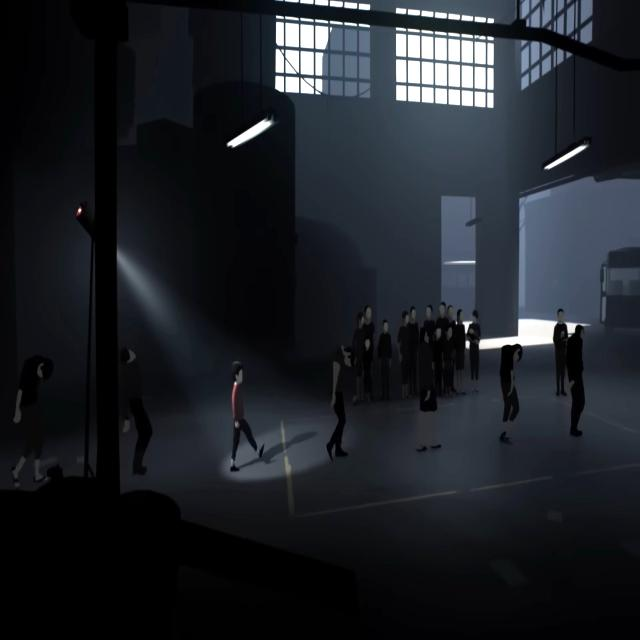boy: (230, 360, 265, 472)
human: (553, 308, 568, 396), (398, 311, 412, 399), (377, 319, 392, 401), (467, 310, 481, 393), (354, 312, 364, 403), (456, 309, 466, 395), (443, 325, 453, 397), (362, 336, 372, 404), (434, 325, 442, 397), (364, 306, 374, 335), (424, 304, 435, 328), (436, 302, 448, 324), (409, 306, 418, 326), (447, 305, 455, 325)
zombie: (11, 355, 54, 490), (119, 348, 152, 476), (326, 345, 354, 462), (416, 328, 442, 451), (500, 344, 522, 442), (566, 325, 585, 437)
